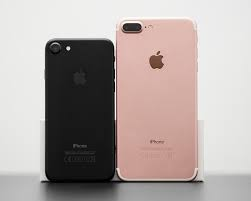iphone: (113, 12, 202, 185)
